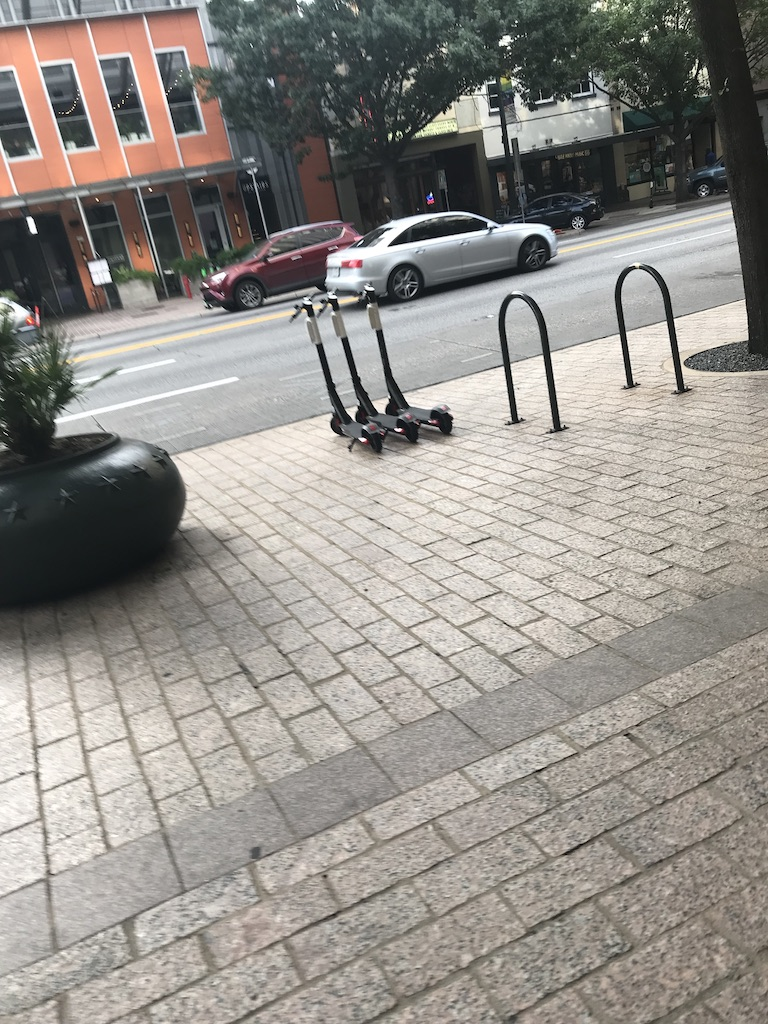scooter: (317, 287, 420, 442), (290, 292, 382, 453), (360, 281, 453, 435)
